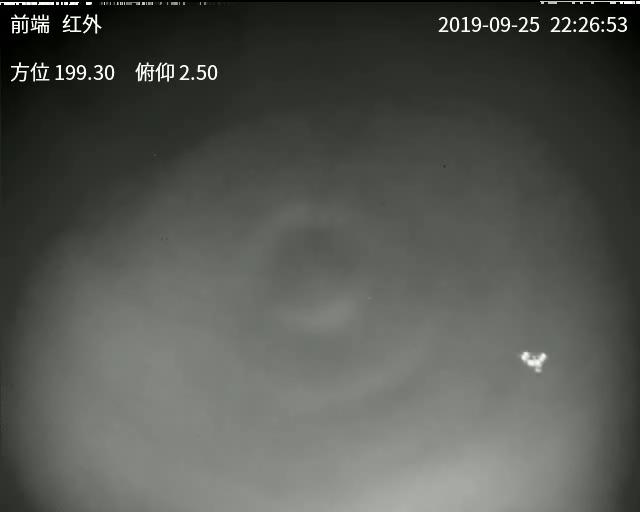uav: (507, 347, 541, 378)
